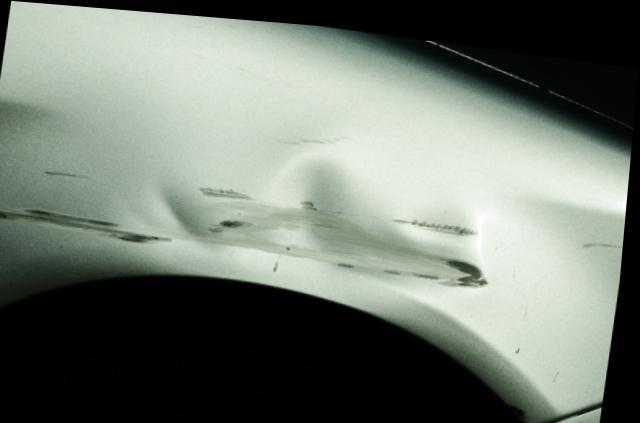dent: (151, 151, 492, 284)
scratch: (0, 200, 157, 247)
